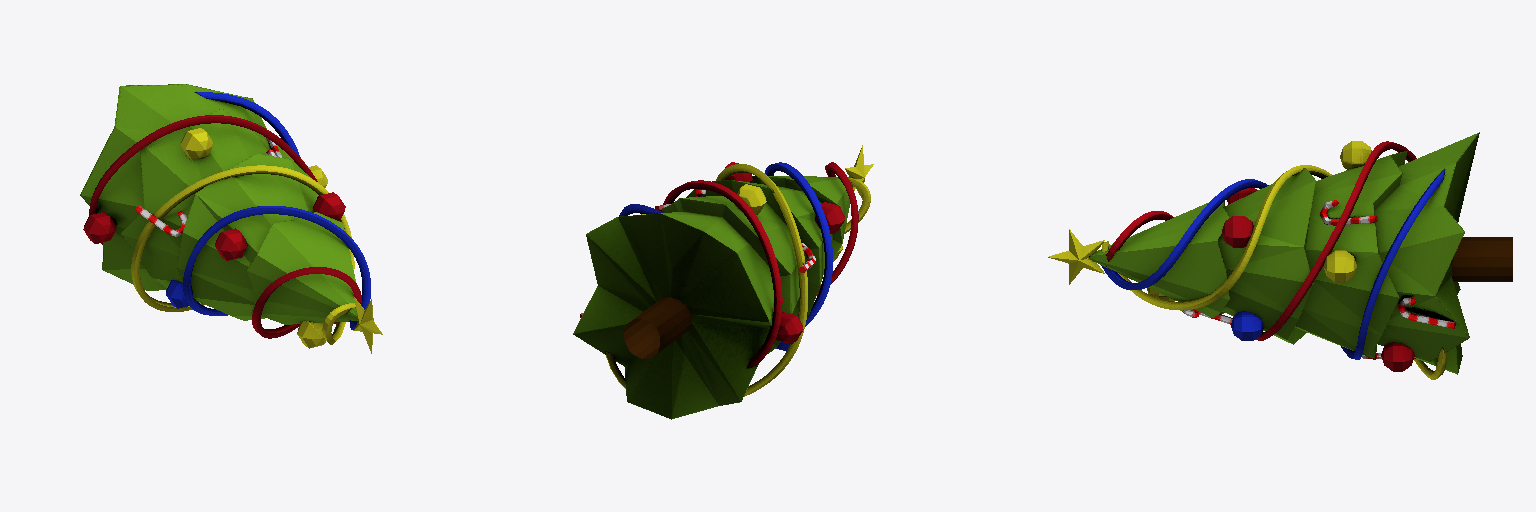
3 views of the same model, side by side, from view 1: azimuth 30°, elevation 25°; view 2: azimuth 150°, elevation 25°; view 3: azimuth 270°, elevation 25° (orthographic).
Visible parts, largest first — view 1: YolskoeDrevo.003_Cone.003; view 2: YolskoeDrevo.003_Cone.003; view 3: YolskoeDrevo.003_Cone.003.
Boxes of the visible parts, x1=… form: YolskoeDrevo.003_Cone.003: x1=80, y1=84, x2=382, y2=353; YolskoeDrevo.003_Cone.003: x1=573, y1=145, x2=873, y2=419; YolskoeDrevo.003_Cone.003: x1=1048, y1=132, x2=1512, y2=379.
Size of the model in its own units: 3.26 by 3.25 by 6.48.
Materials: 1 (1 with a texture image).